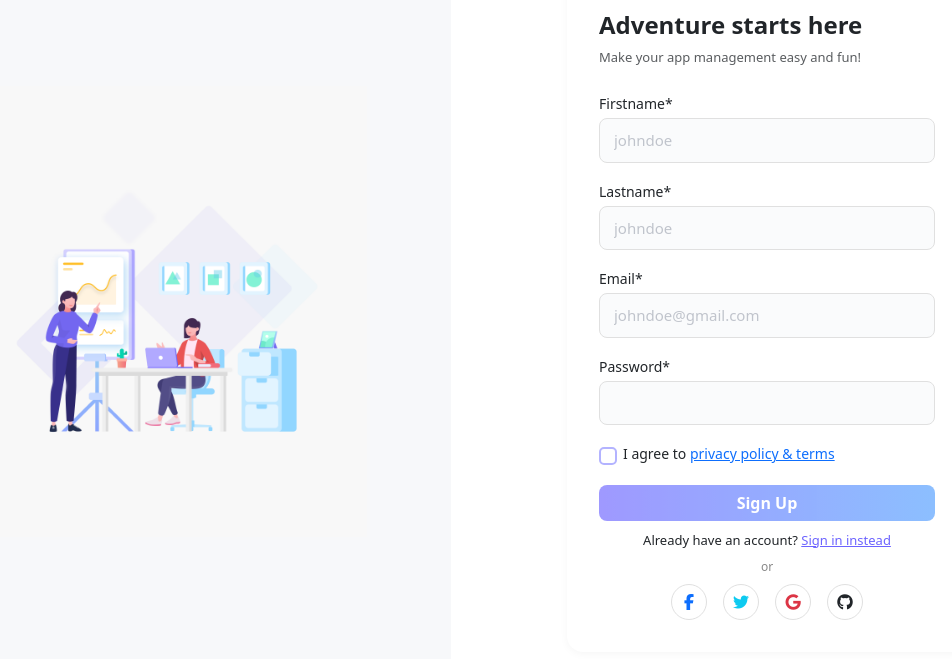
Test case: Signup Component › shows validation error for invalid email
The image size is (952, 659).
Type "invalid-email" into the field labelled "Email*".
click(767, 316); type("invalid-email")  # box [599,293,935,338]
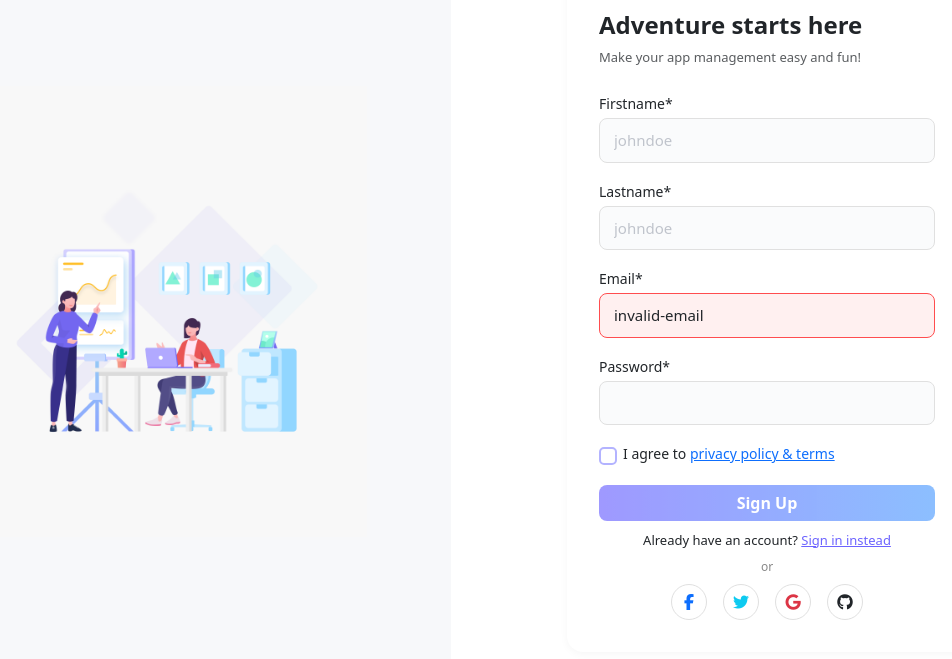
Leave the field labelled "Email*", box [599,293,935,338]
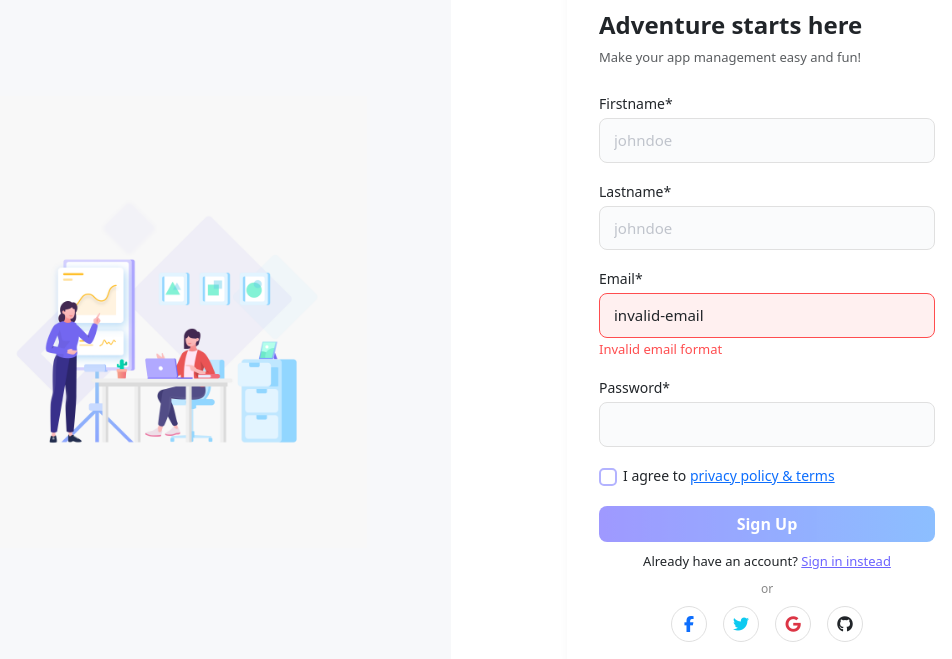
Check: the text "Invalid email format" is shown, box [599,340,722,358]
